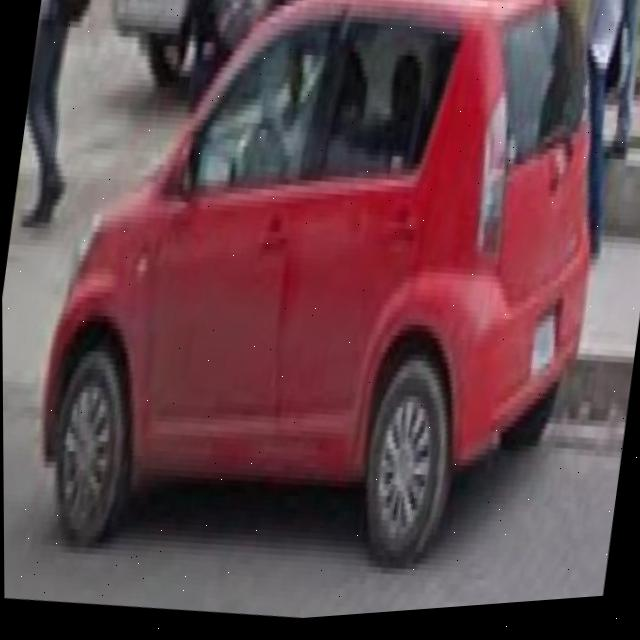vehicle: (19, 0, 629, 628)
